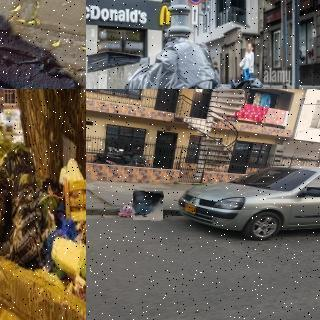Garbage: (121, 38, 218, 89), (9, 188, 47, 268), (49, 236, 86, 279), (0, 147, 34, 181), (132, 190, 164, 221), (0, 176, 12, 255), (118, 203, 136, 218)
